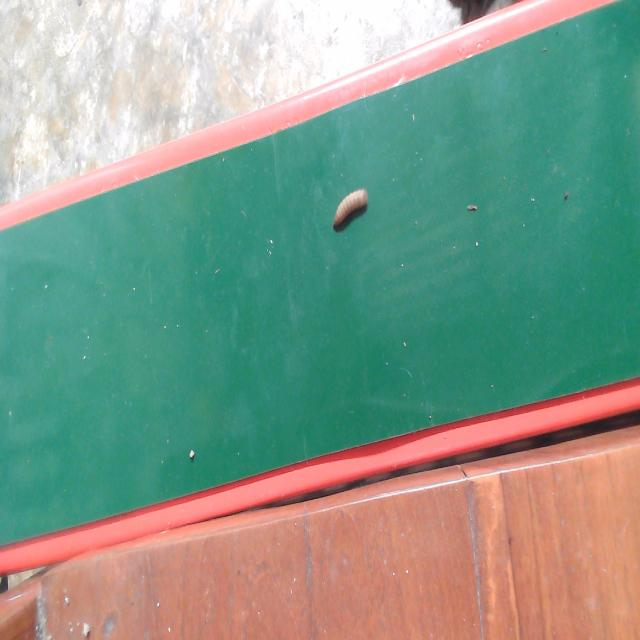Maggot: (331, 188, 370, 233)
